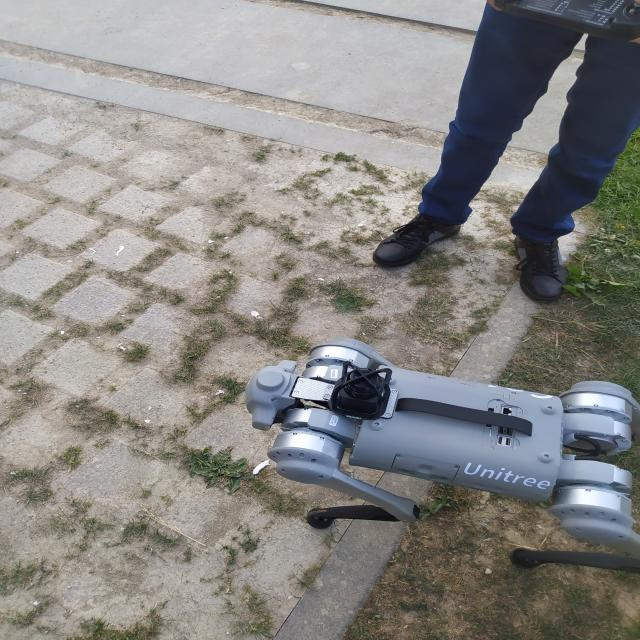unitree-go1-robot: (229, 331, 640, 600)
